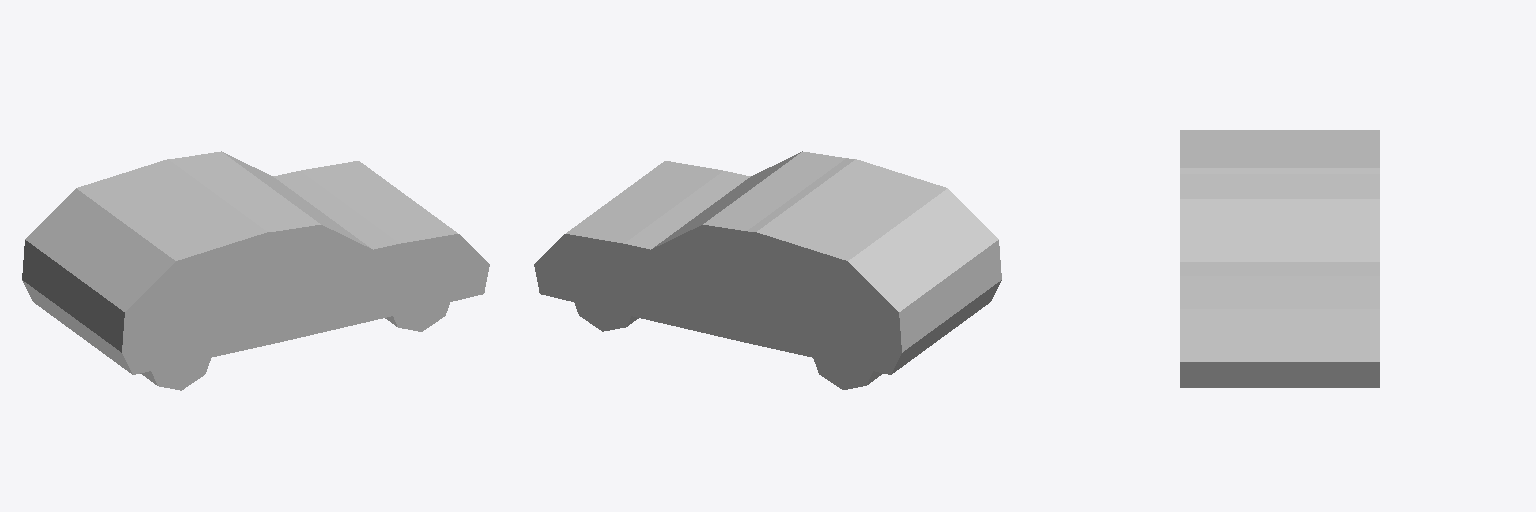
Rendered from car.obj.
The picture shows the model from 3 angles: view 1: azimuth 30°, elevation 25°; view 2: azimuth 150°, elevation 25°; view 3: azimuth 270°, elevation 25°; orthographic projection.
Parts seen in each view (by area): view 1: Body.001; view 2: Body.001; view 3: Body.001.
Boxes of the visible parts, box(x1,y1,x2,y2) form: Body.001: box(22, 151, 489, 390); Body.001: box(534, 151, 1001, 389); Body.001: box(1180, 130, 1379, 387).
Bounding box in the file's own units: 4.25 × 1.54 × 2.